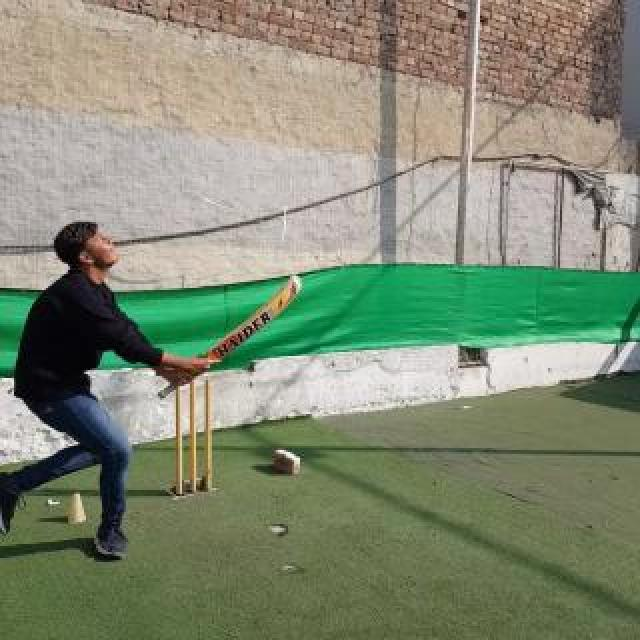bat: (158, 274, 302, 400)
